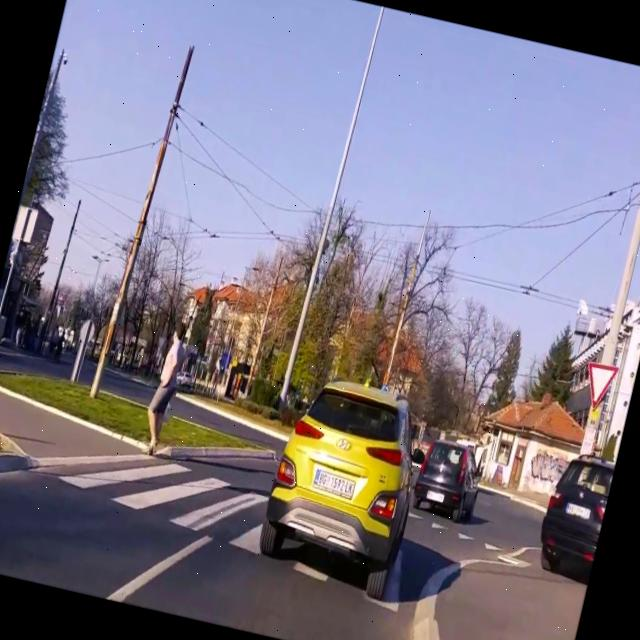License-plate: (311, 468, 356, 498)
